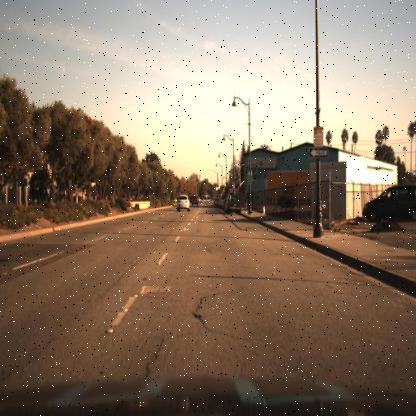car: (362, 183, 416, 222), (174, 194, 190, 220), (226, 191, 242, 214), (189, 191, 203, 209)
truck: (261, 165, 313, 214)
